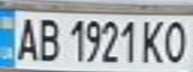1: (118, 17, 139, 64), (63, 16, 84, 62)
2: (100, 17, 121, 64)
9: (81, 17, 103, 63)
A: (12, 14, 42, 62)
B: (33, 15, 63, 63)
K: (139, 16, 169, 64)
O: (160, 17, 193, 64)
